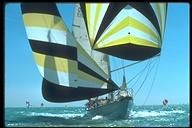sailboat: (17, 4, 177, 121)
sky: (169, 6, 189, 104), (6, 6, 23, 107)
water: (6, 108, 84, 126), (134, 107, 187, 125)
